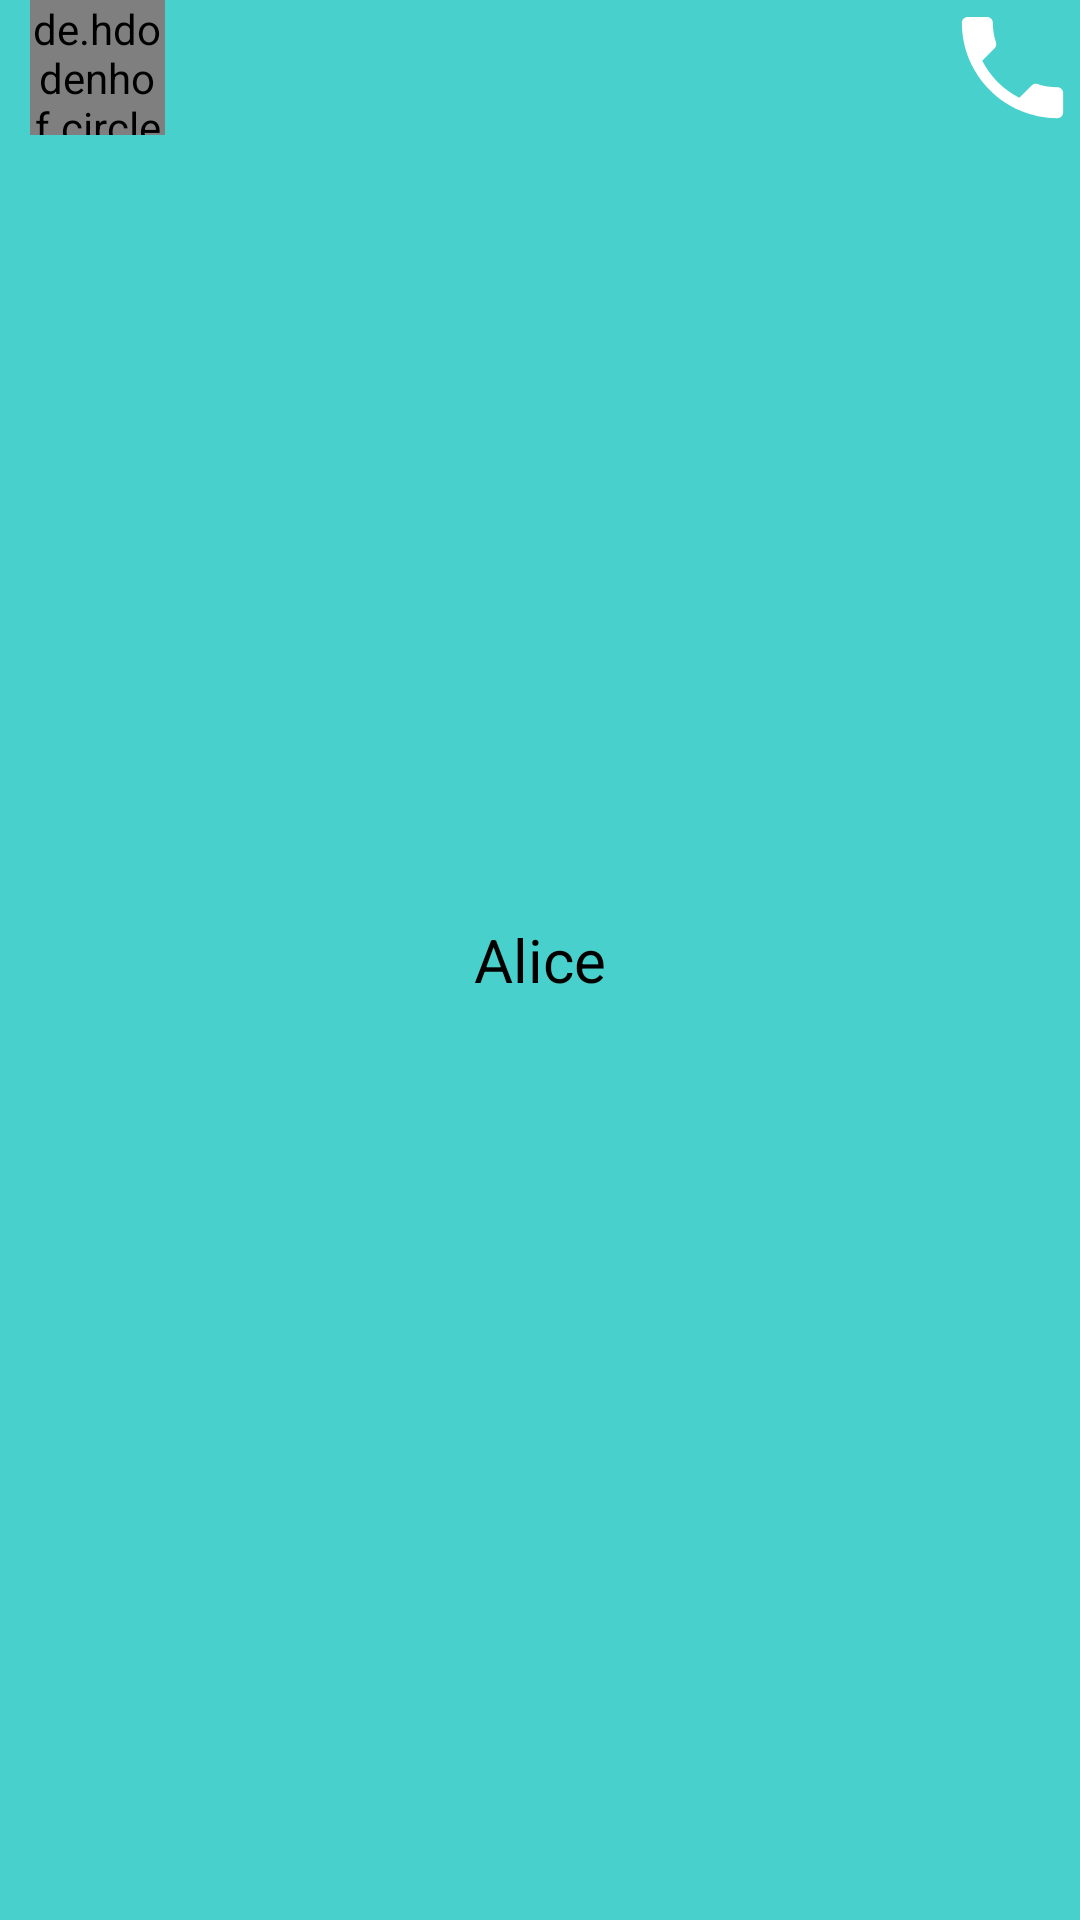

Where to tap for icons on this 1080×1920 app screen, as (x=x, y=y):
phone: (x=1012, y=68)
